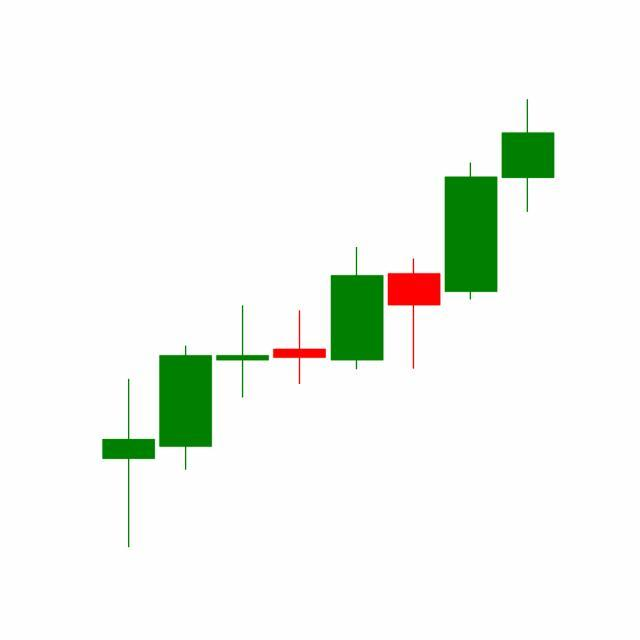Hikkake Pattern: (214, 160, 501, 401)
